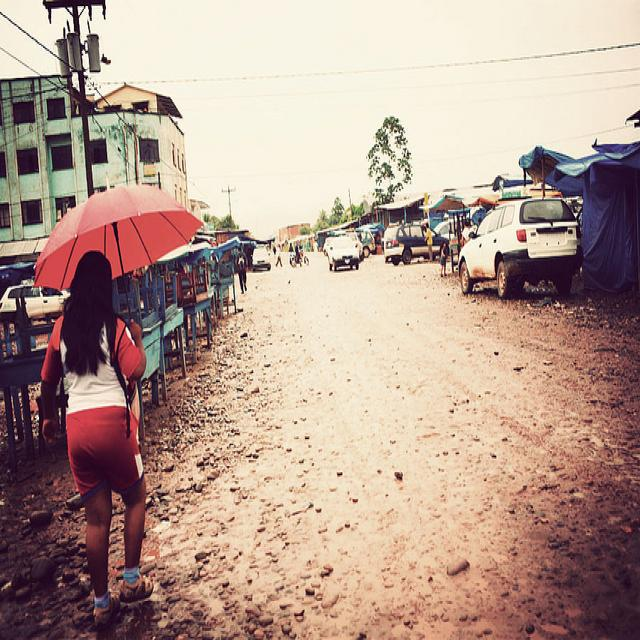Vehicle: (457, 197, 584, 301), (0, 284, 71, 320), (386, 225, 448, 266), (331, 230, 376, 257), (328, 237, 360, 272), (347, 233, 364, 260), (251, 248, 270, 272), (323, 236, 343, 257), (433, 221, 449, 237)
